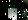person: (13, 6, 18, 20), (9, 6, 14, 18)
